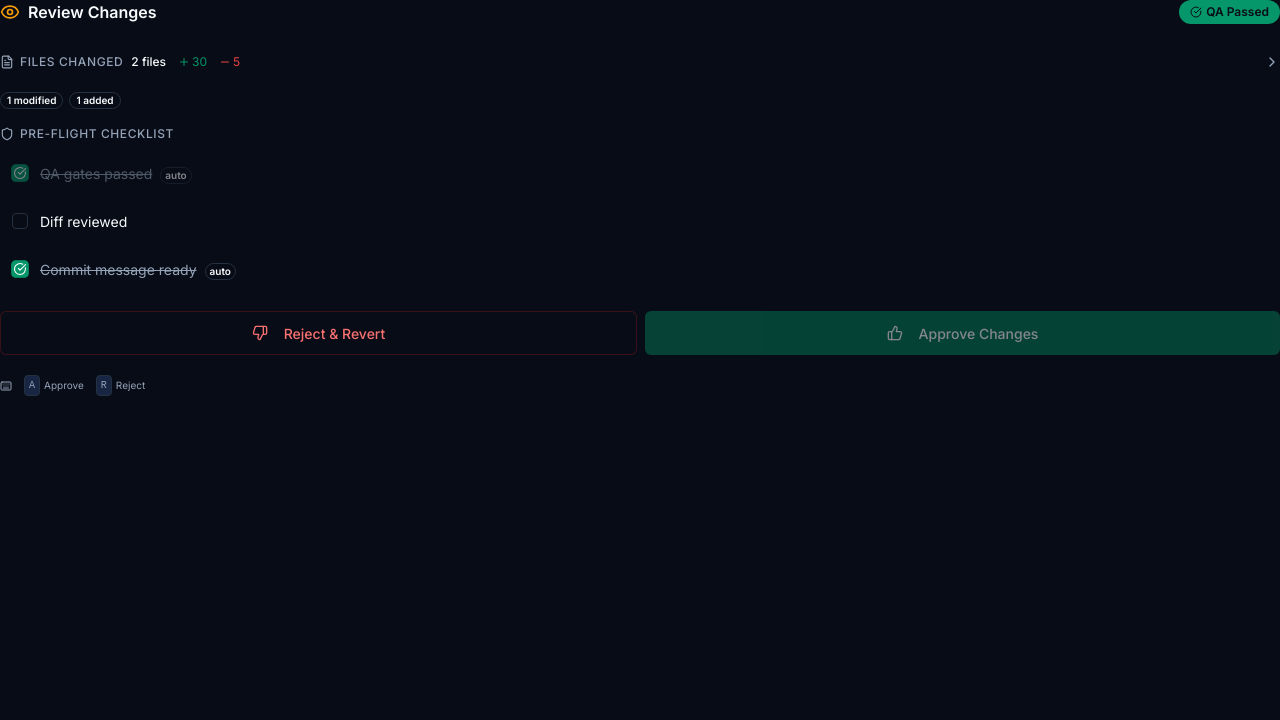
Test: ApprovalPanel › should show reject confirmation dialog when reject is clicked
Step 1. Click the button "Reject & Revert" → [318, 333], box [0,311,637,355]
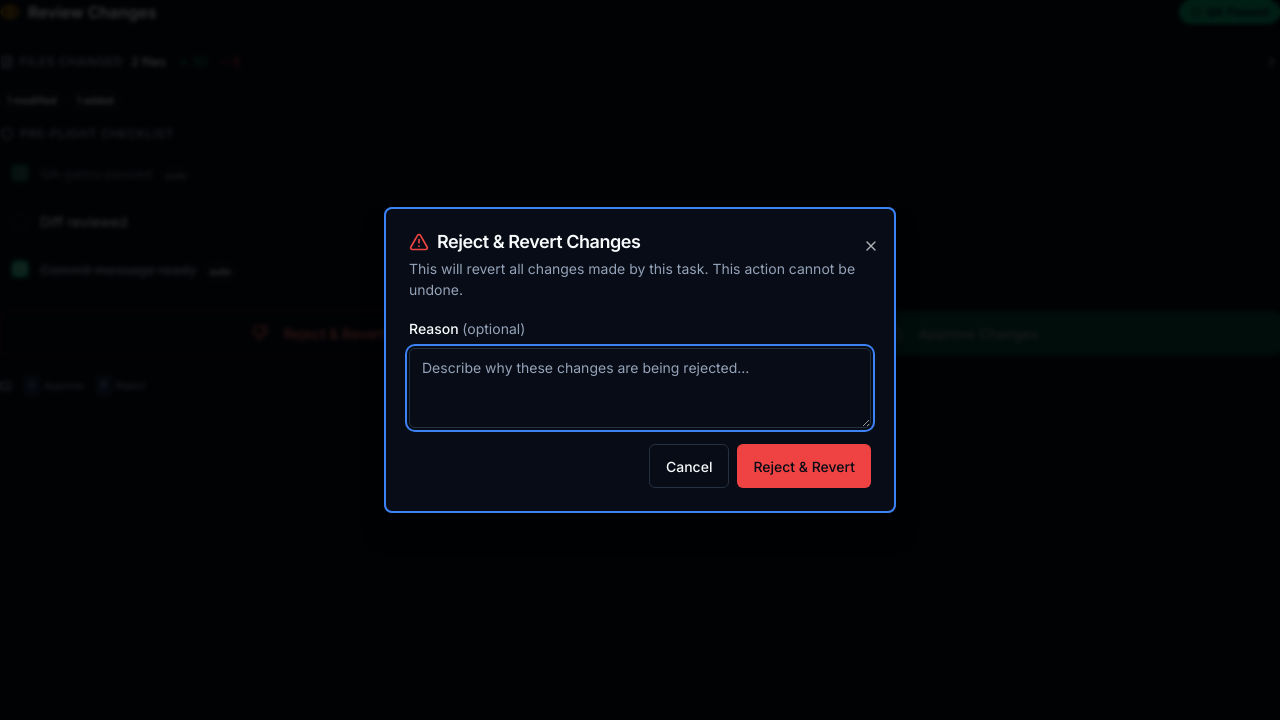
Check: the text "This will revert all changes" is shown, box [409,260,855,298]
Check: the text box with placeholder "Describe why these changes are being rejected..." is shown, box [409,348,871,428]
